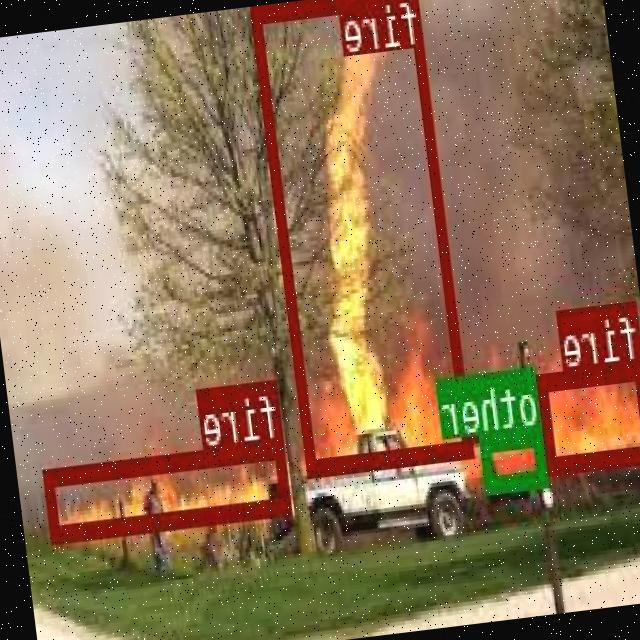fire: (252, 0, 475, 471), (45, 438, 294, 540), (538, 358, 640, 469)
